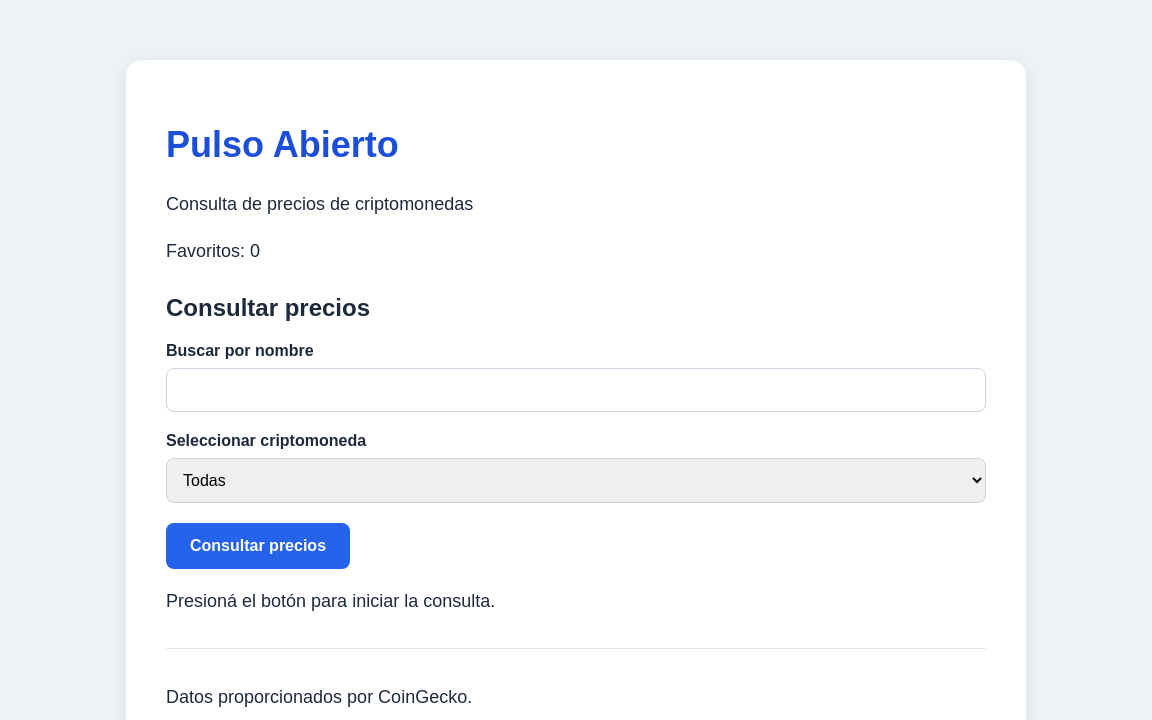
Test: Consulta de criptomonedas › muestra el resultado de una consulta exitosa
What coordinates should you click on to do the following:
click the button "Consultar precios"
I would click on:
 (258, 546)
Its box is [166,523,350,569].
(page scrolled)
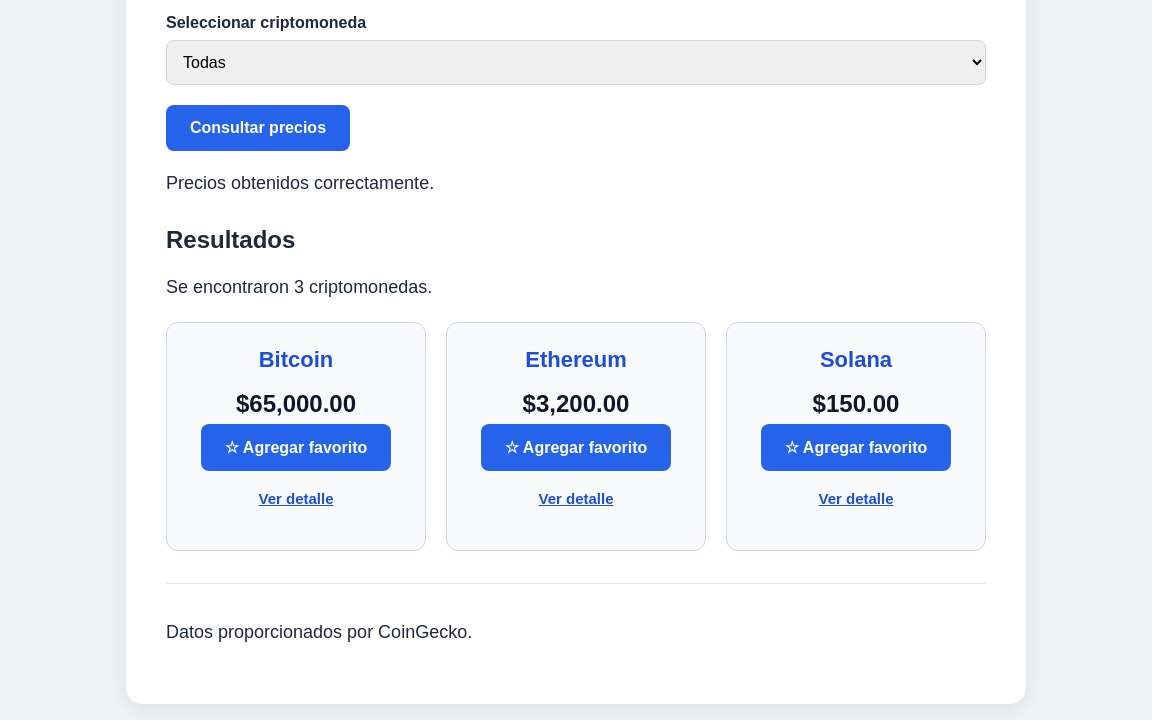
Expected: the text "Precios obtenidos correctamente." is shown, [166,173,434,193]
Expected: the heading "Bitcoin" is shown, [259,347,333,372]
